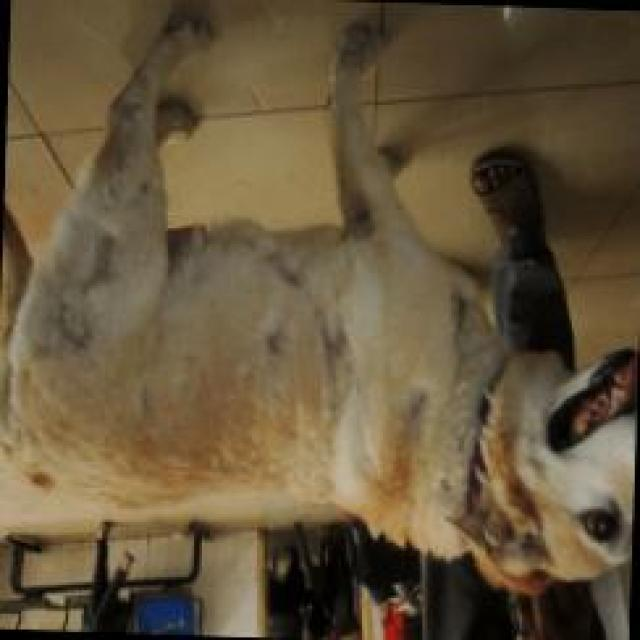fungal infection: (34, 289, 101, 363), (76, 226, 130, 299), (250, 242, 315, 298), (338, 194, 384, 253), (439, 279, 475, 351), (100, 120, 144, 168), (124, 171, 168, 215), (318, 322, 354, 371), (30, 449, 66, 496), (260, 320, 289, 372), (403, 387, 431, 423), (431, 467, 461, 499)
